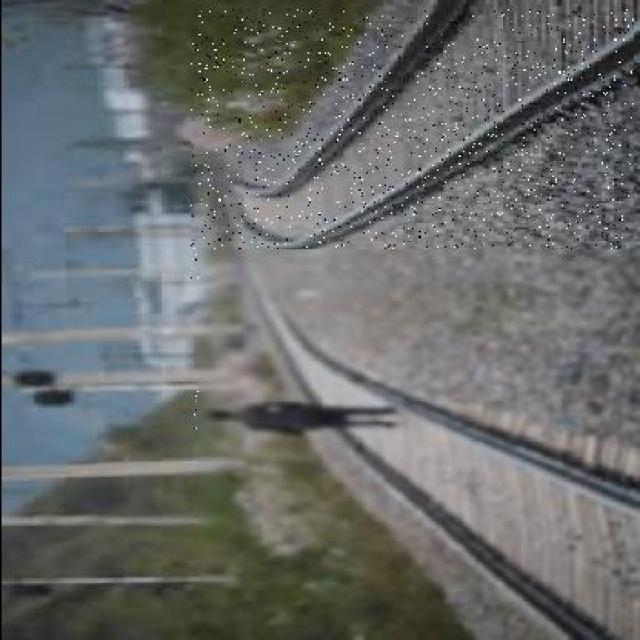danger: (190, 390, 422, 442)
rail: (198, 249, 638, 640), (190, 9, 632, 277)
